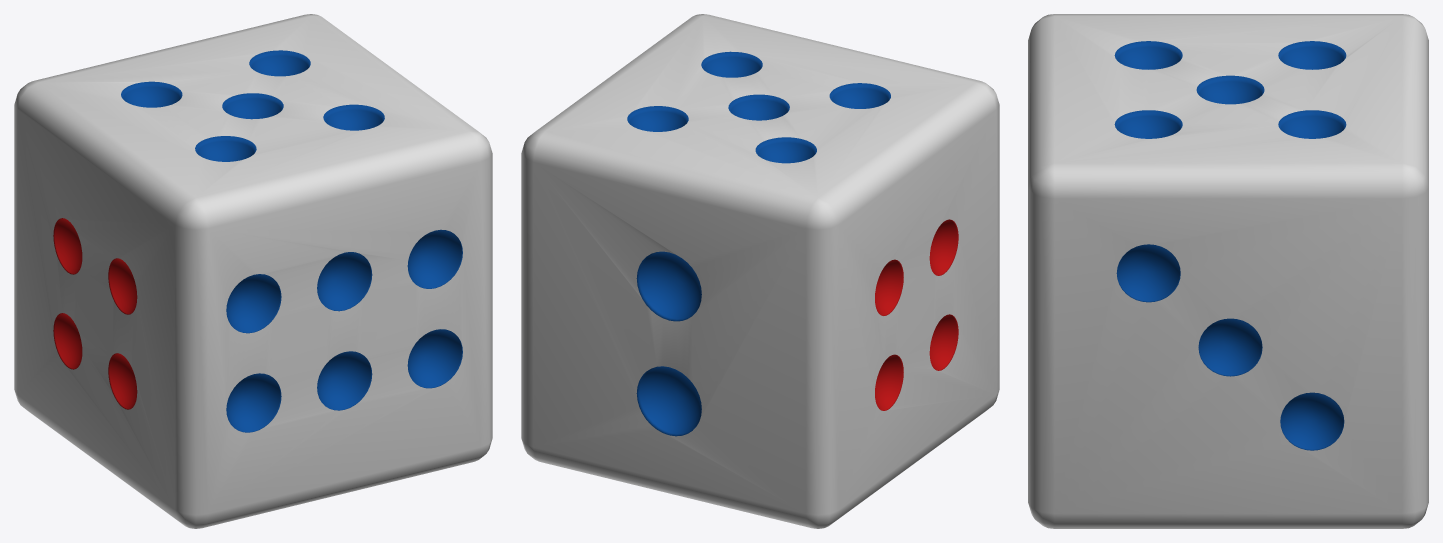
File: touzi.gltf
3 views of the same model, side by side, from view 1: azimuth 30°, elevation 25°; view 2: azimuth 150°, elevation 25°; view 3: azimuth 270°, elevation 25° (orthographic). The views are drawn at different scales.
Visible parts, largest first — view 1: touzi; view 2: touzi; view 3: touzi.
Part boxes in pixels (left/top/right/bottom): touzi: left=14, top=14, right=492, bottom=528; touzi: left=521, top=14, right=999, bottom=528; touzi: left=1028, top=14, right=1428, bottom=528.
Bounding box in the file's own units: 0.00591 × 0.00591 × 0.00591.
1 material, 1 textured.
